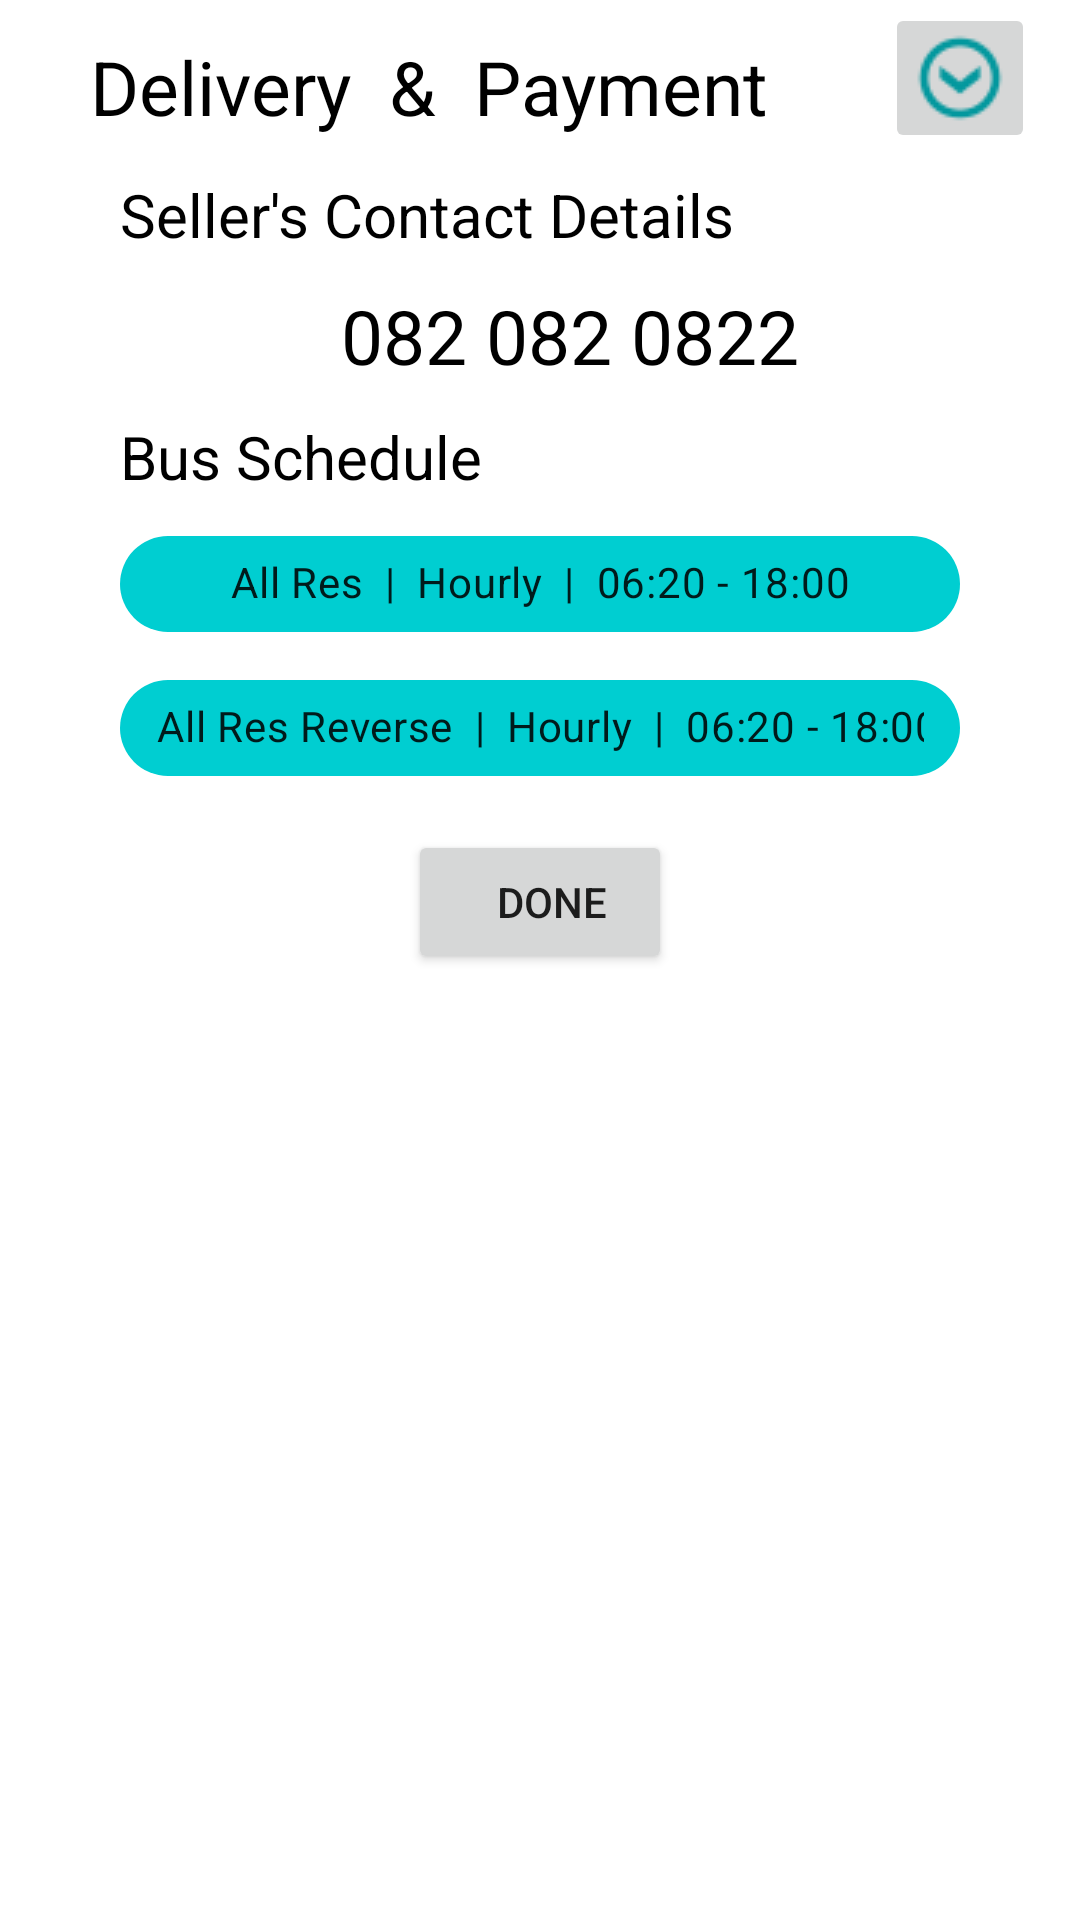

Where icons sit on this 1080 × 1920 app screen, as (x1, y1, x2, y2):
down tea: (897, 21, 1023, 135)
